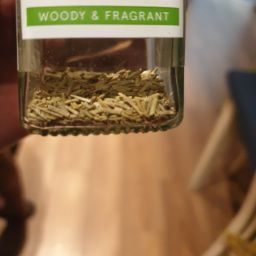Rosemary: (9, 53, 185, 138), (40, 65, 161, 123)
